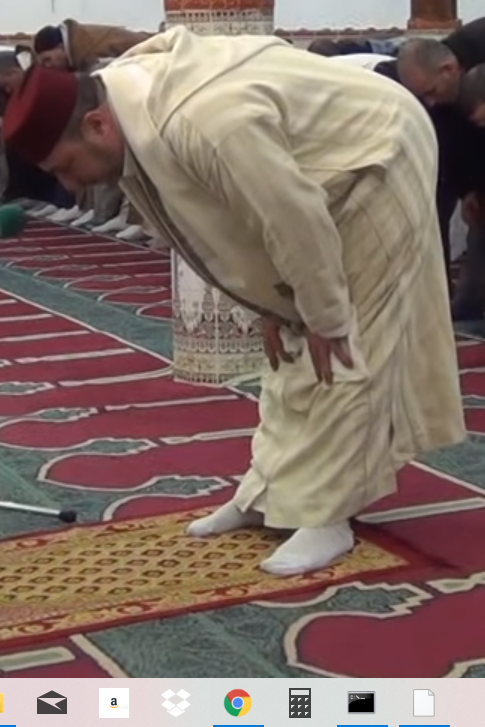ruku: (1, 26, 467, 570)
